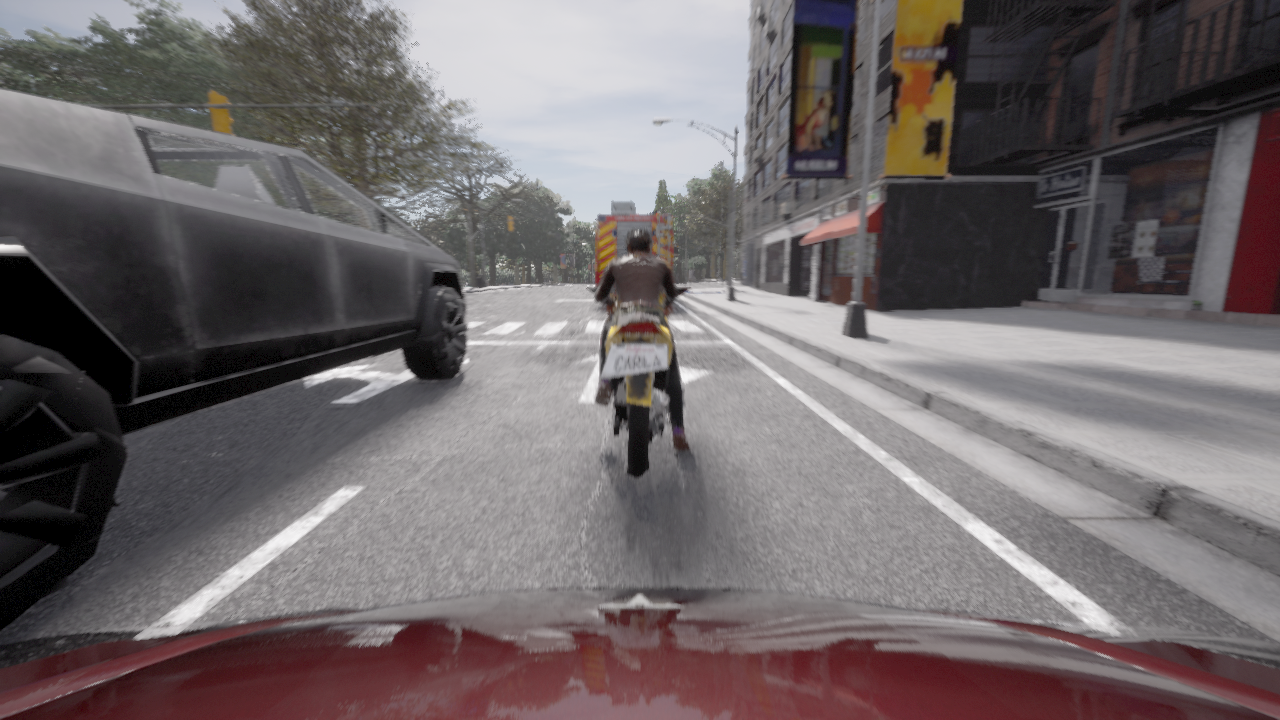cyclist: (0, 588, 1279, 719), (586, 288, 691, 477), (596, 202, 672, 300)
